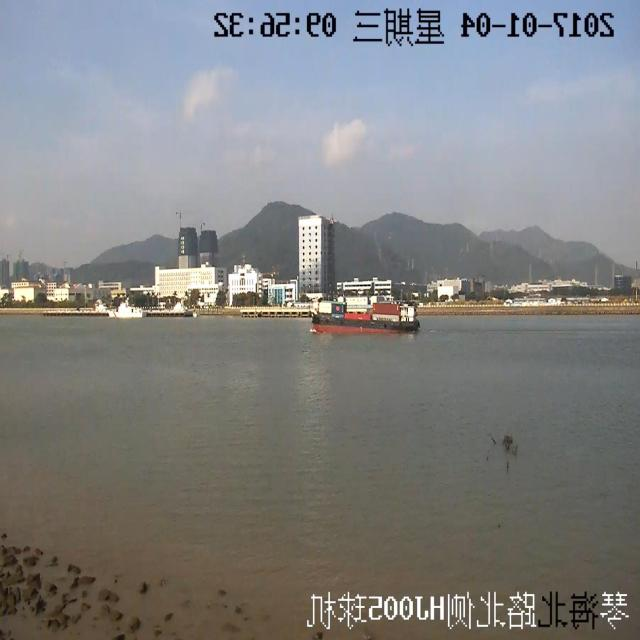cargoship: (308, 283, 426, 331)
